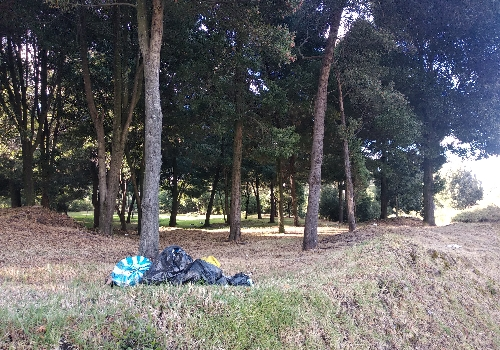trash: (103, 231, 264, 299)
